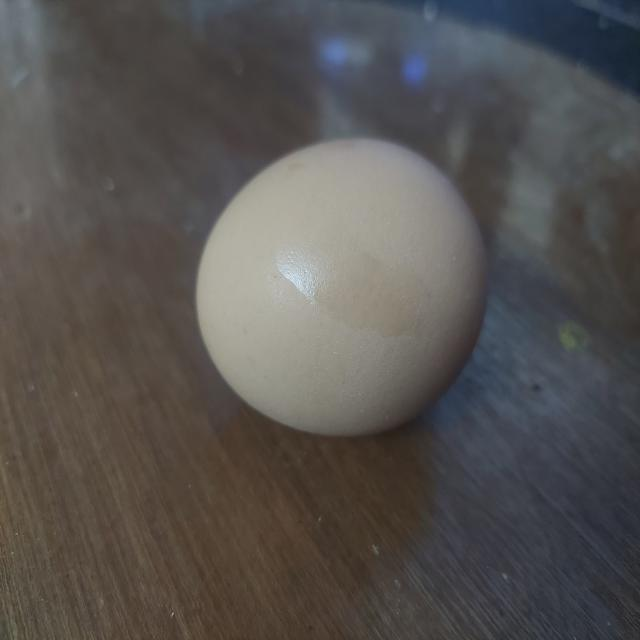Egg: (187, 132, 496, 448)
